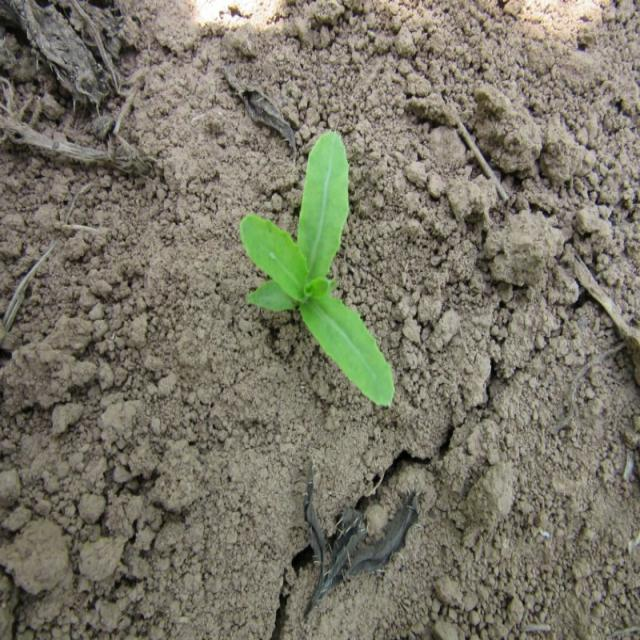field_thistle: (220, 101, 426, 436)
